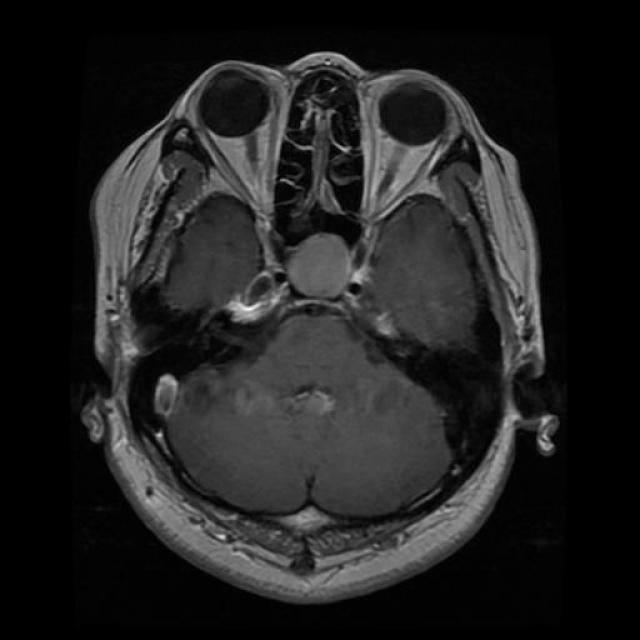pituitary: (284, 230, 382, 306)
